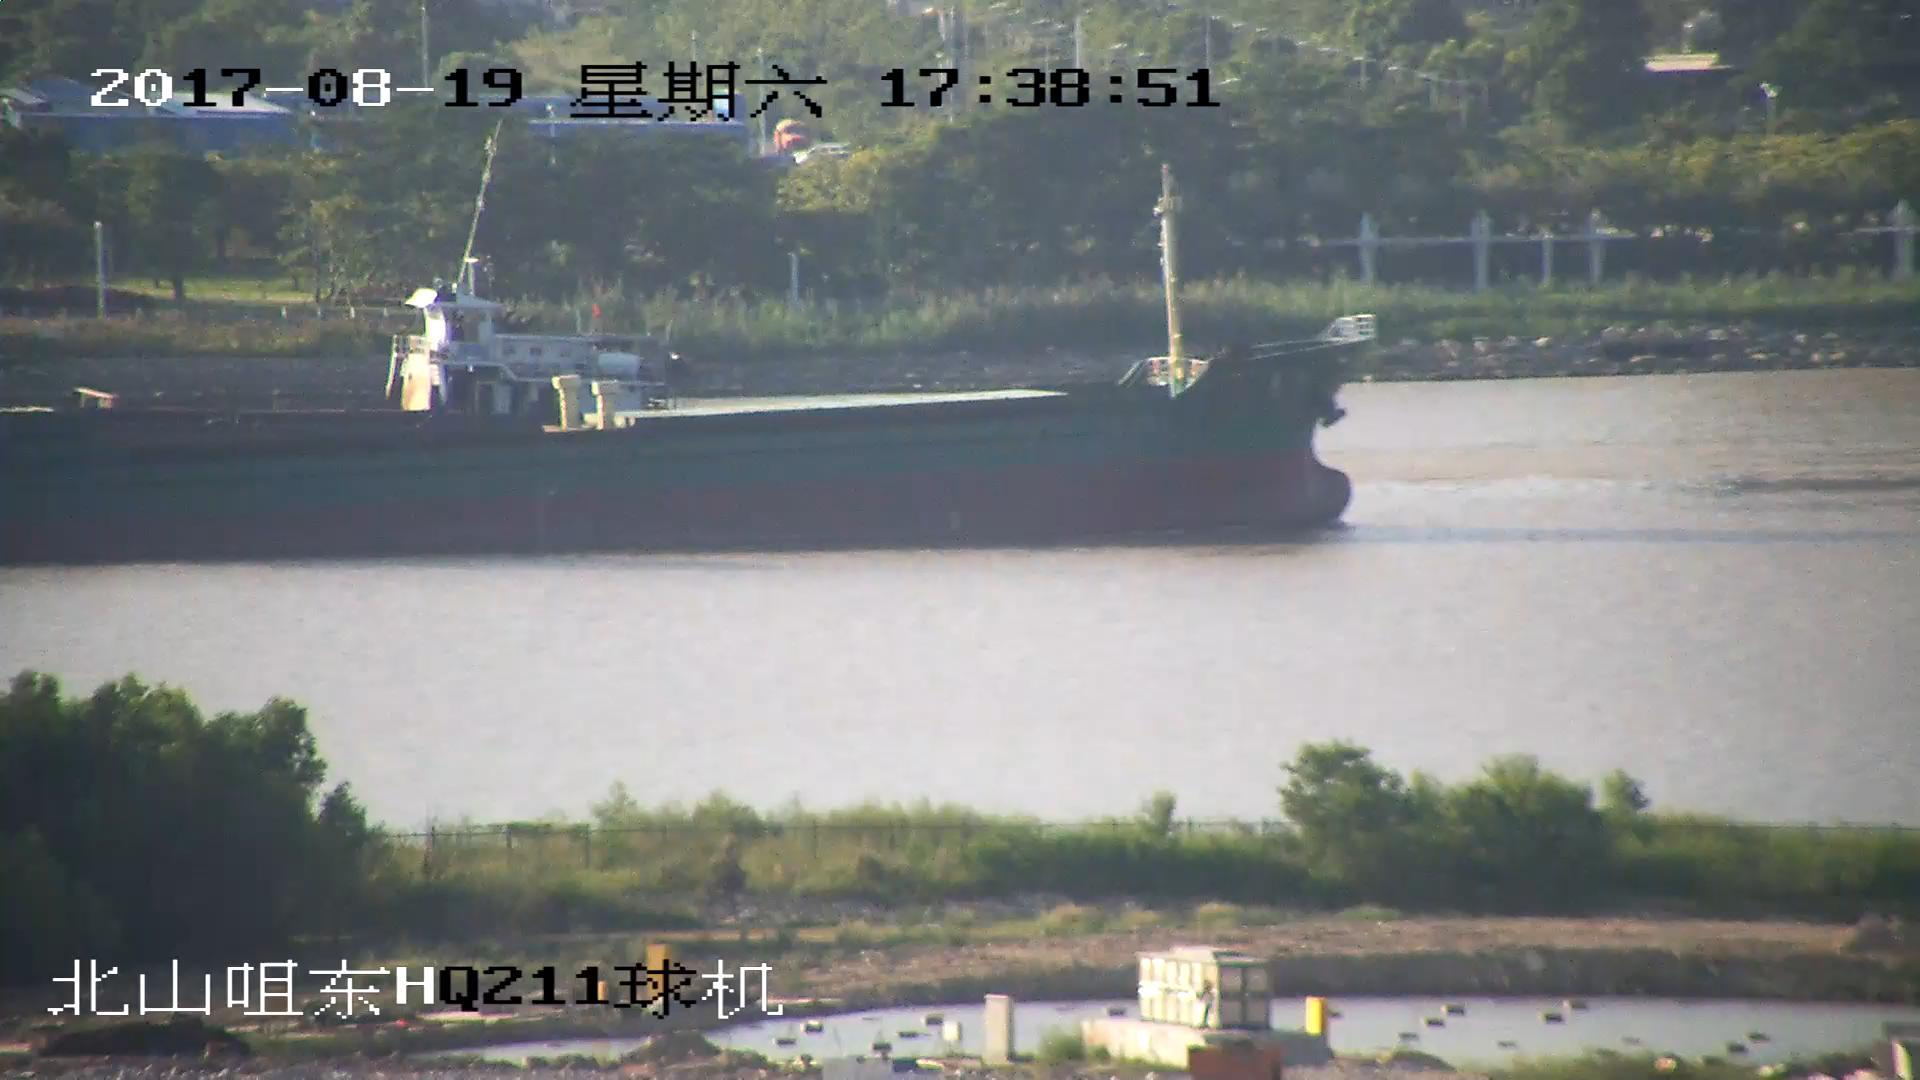Ship: (3, 320, 1371, 545)
